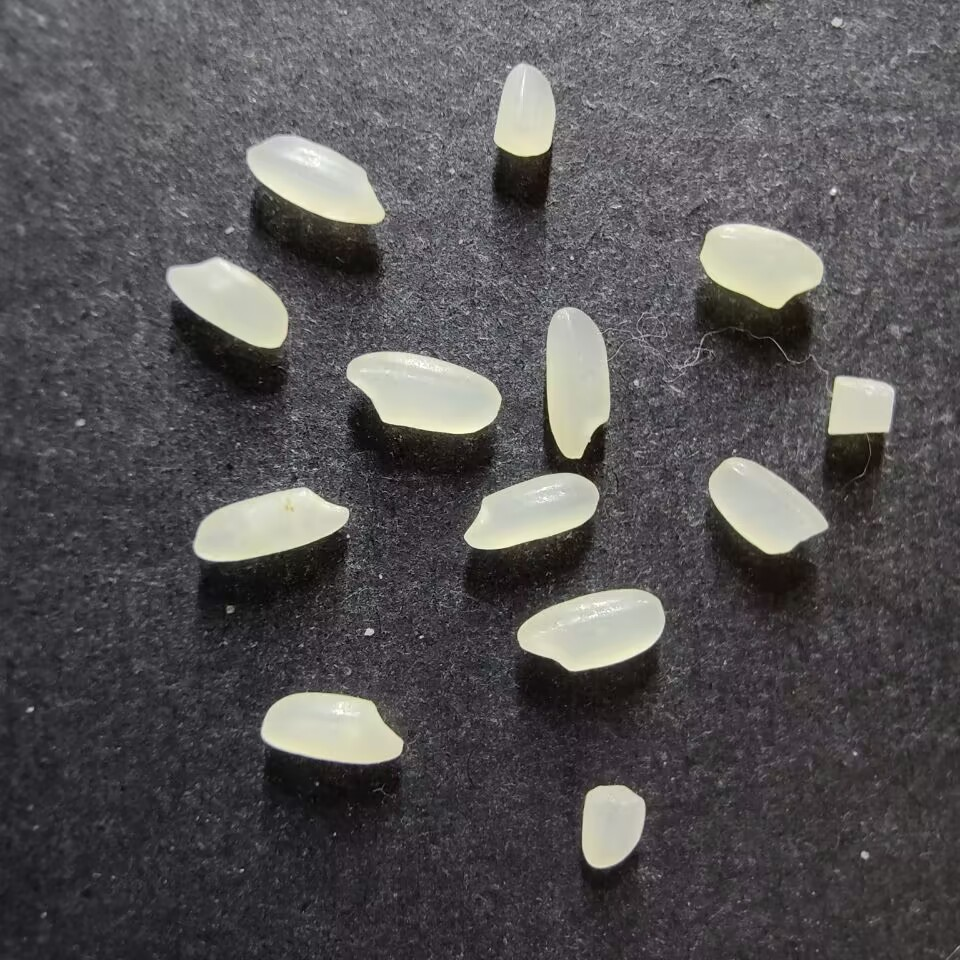broken: (493, 63, 555, 156), (581, 783, 646, 869), (827, 375, 895, 435)
rice: (345, 351, 501, 434), (246, 135, 385, 225), (516, 589, 665, 671), (707, 456, 828, 554), (193, 487, 349, 562), (166, 257, 288, 349), (699, 223, 823, 309), (463, 472, 599, 549), (259, 692, 403, 764), (545, 307, 611, 459)
